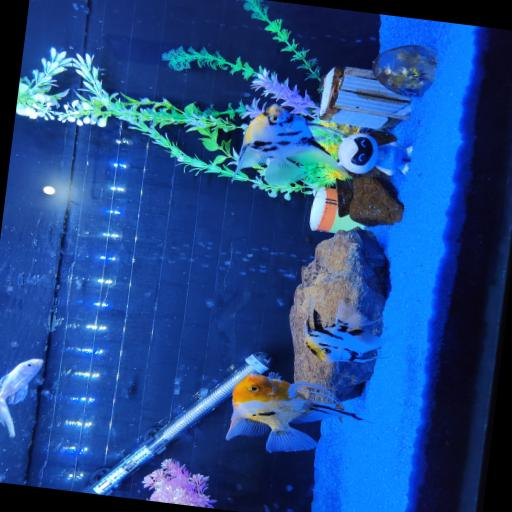Fish: (227, 373, 362, 452), (236, 104, 348, 186), (305, 302, 385, 362), (0, 359, 43, 437)
